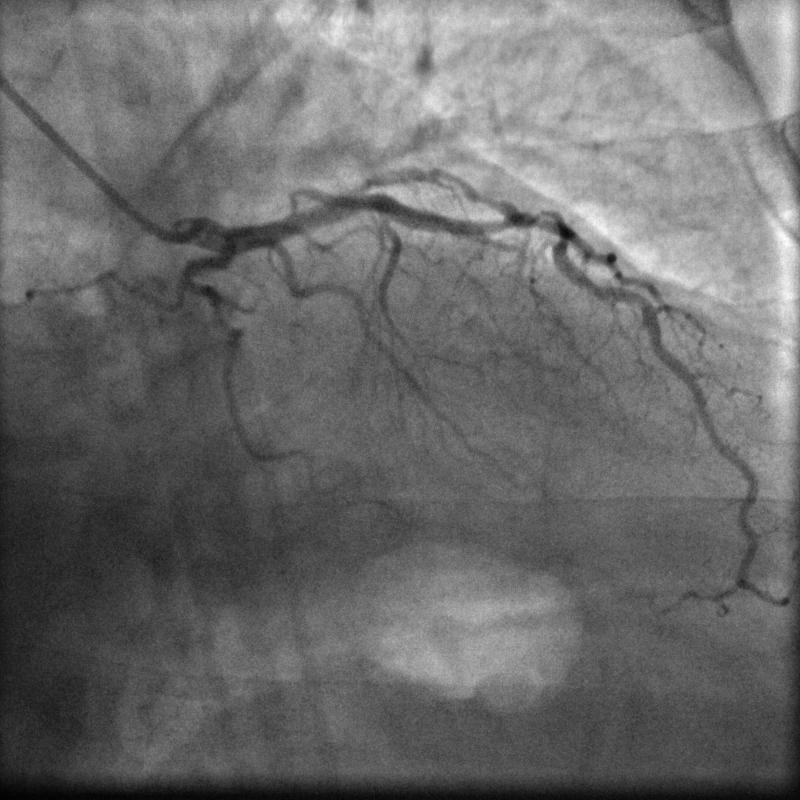Stenosis: (497, 205, 570, 246)
